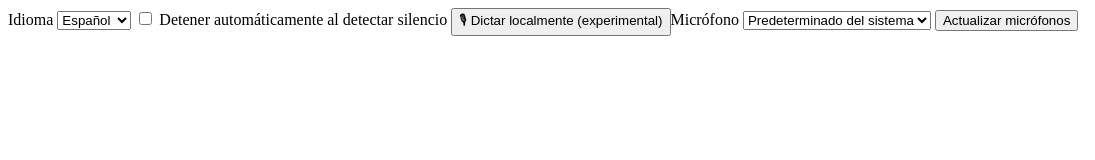
Test: local dictation interaction › discards recording on microphone disconnect instead of transcribing partial audio
Click the button "🎙 Dictar localmente (experimental)": (561, 22) left=451, top=8, right=670, bottom=36
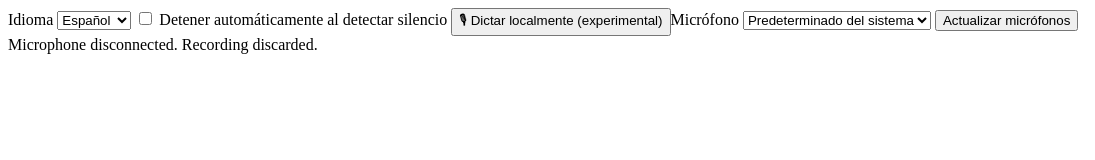
Now the text "Microphone disconnected" is shown, box left=8, top=36, right=318, bottom=53
